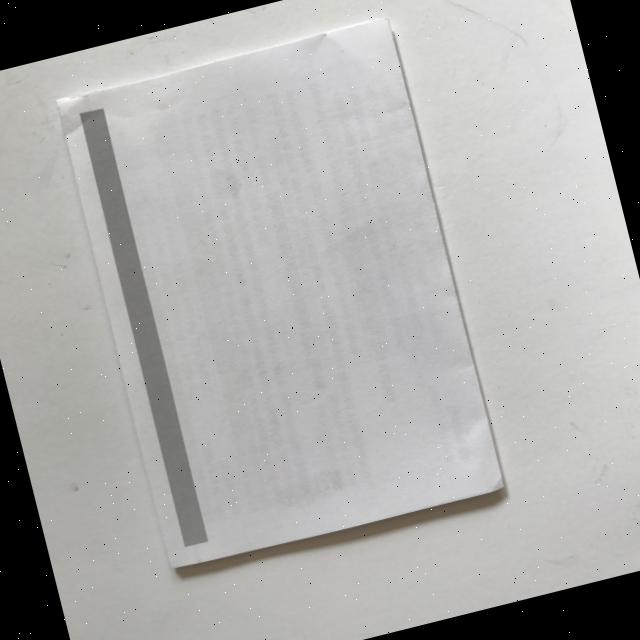paper: (53, 15, 508, 573)
